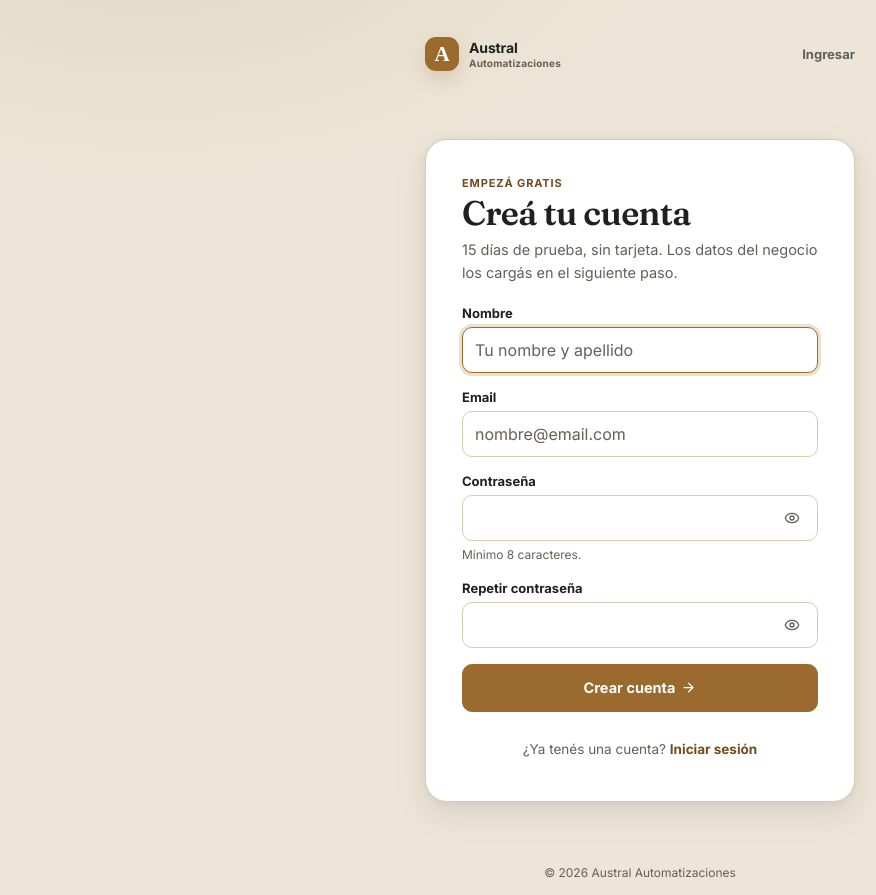
Test: Signup › un email ya registrado no promete un mail que Supabase no envía
Type "Lautaro" into the field labelled "Nombre" at (640, 350), box 462,327 -> 818,373
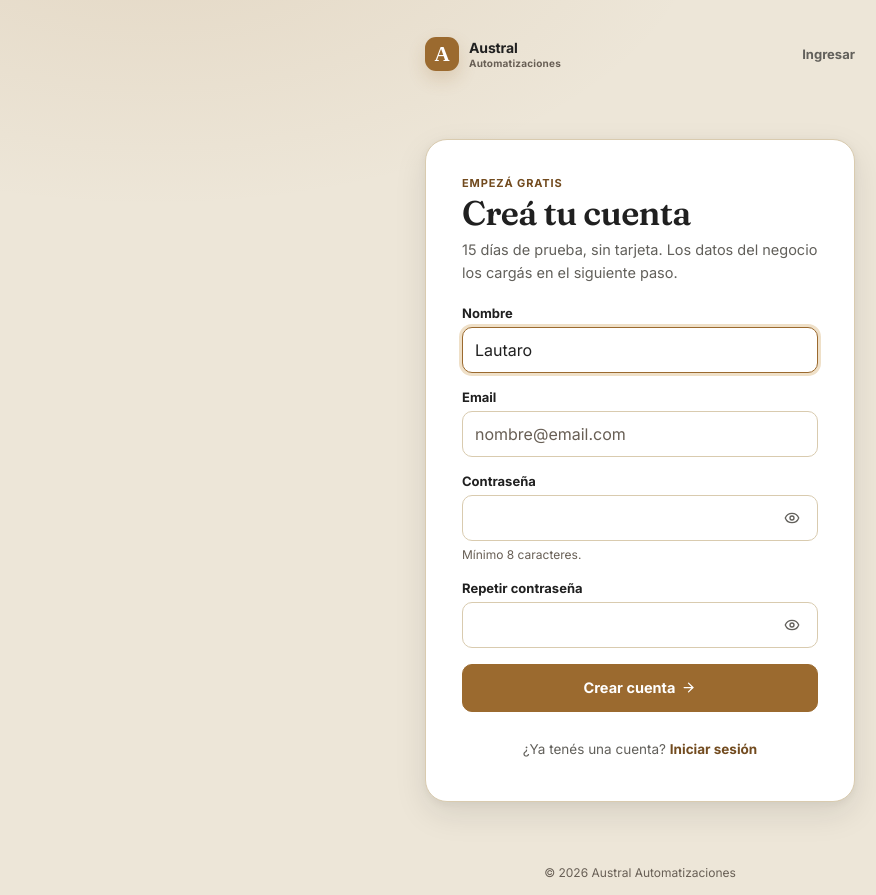
Type "dueno@example.com" into the field labelled "Email" at (640, 434), box 462,411 -> 818,457
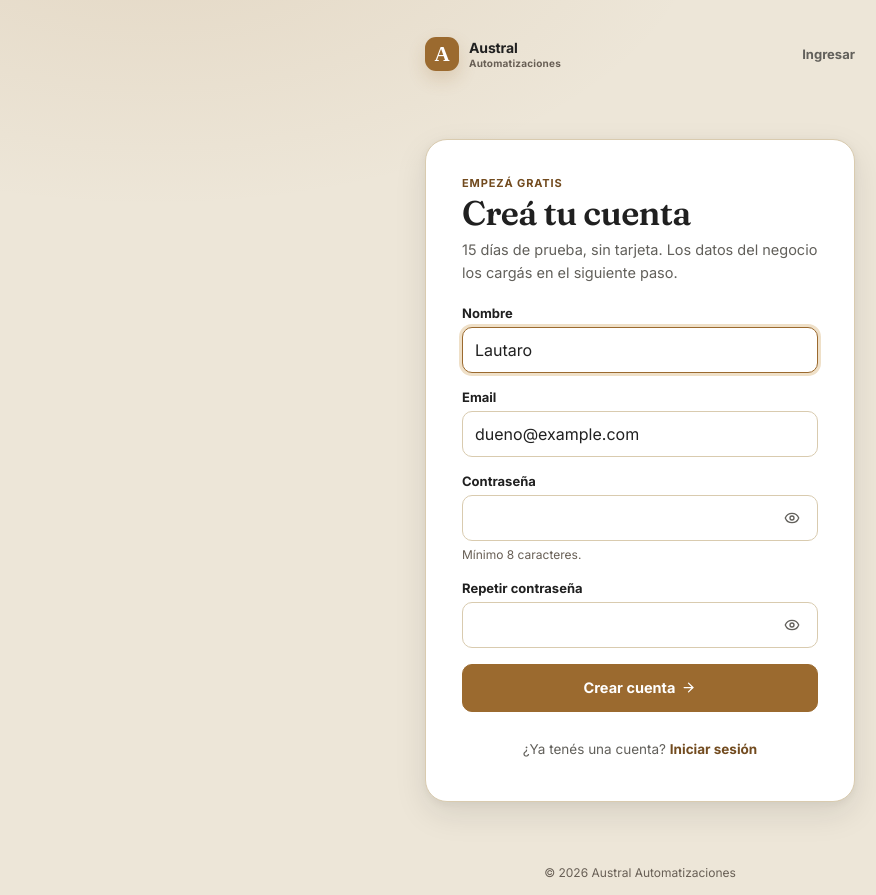
Type "clave-segura-1" into the password field labelled "Contraseña" at (640, 518), box 462,495 -> 818,541
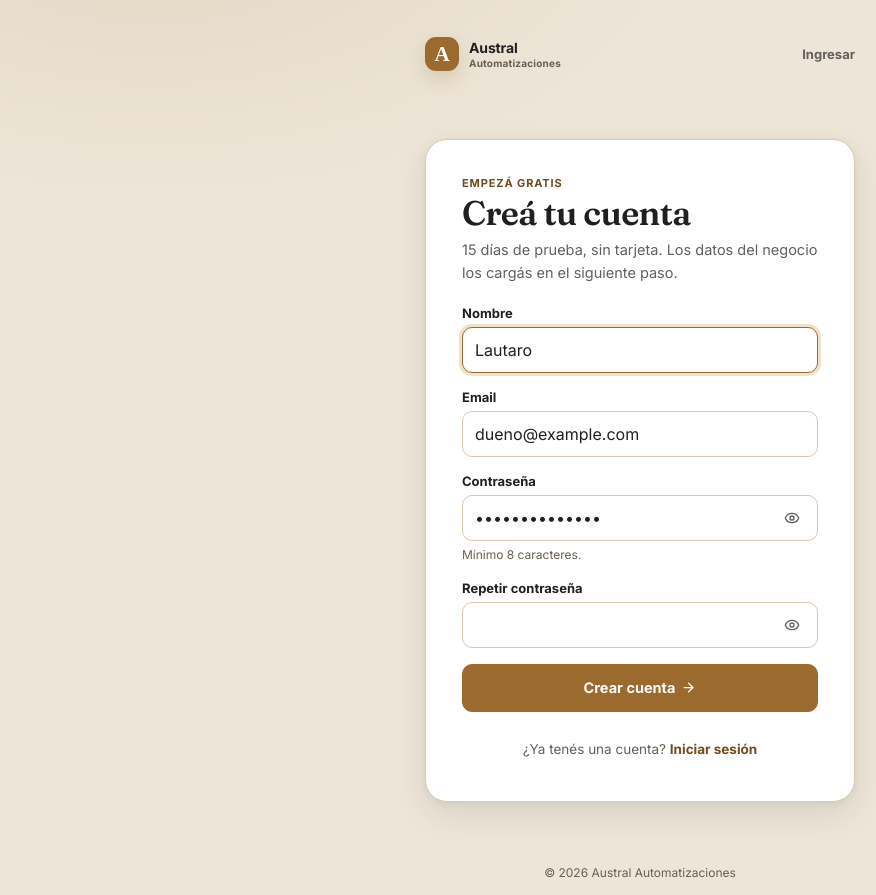
Type "clave-segura-1" into the password field labelled "Repetir contraseña" at (640, 625), box 462,602 -> 818,648
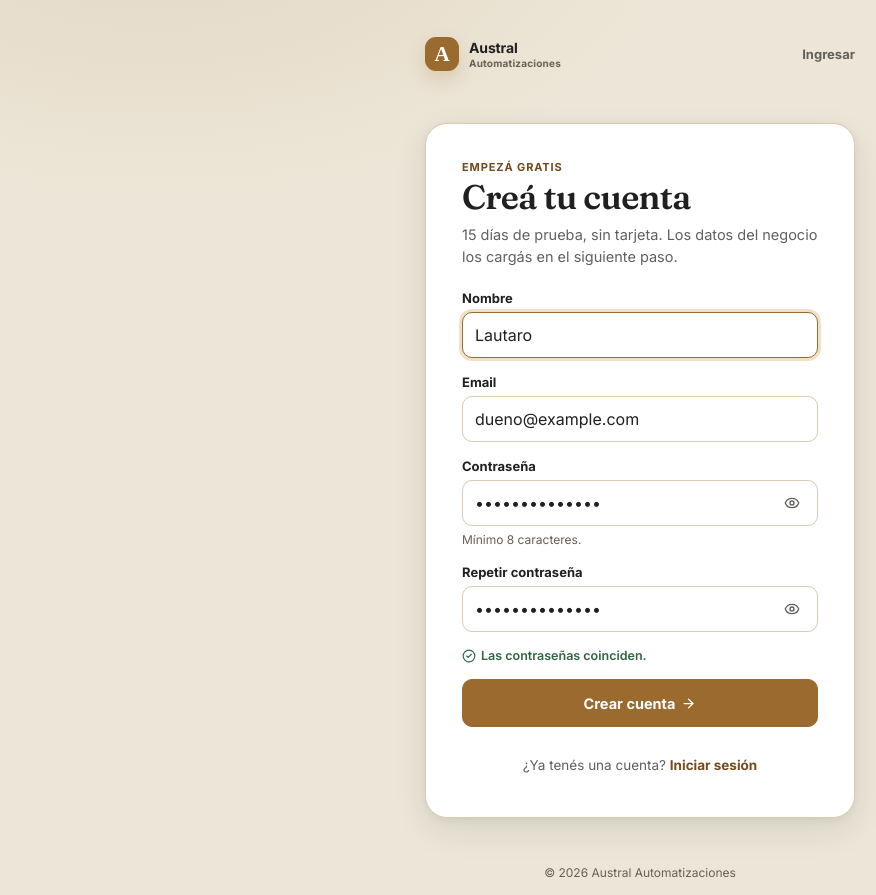
Submit the form, box 462,290 -> 818,727
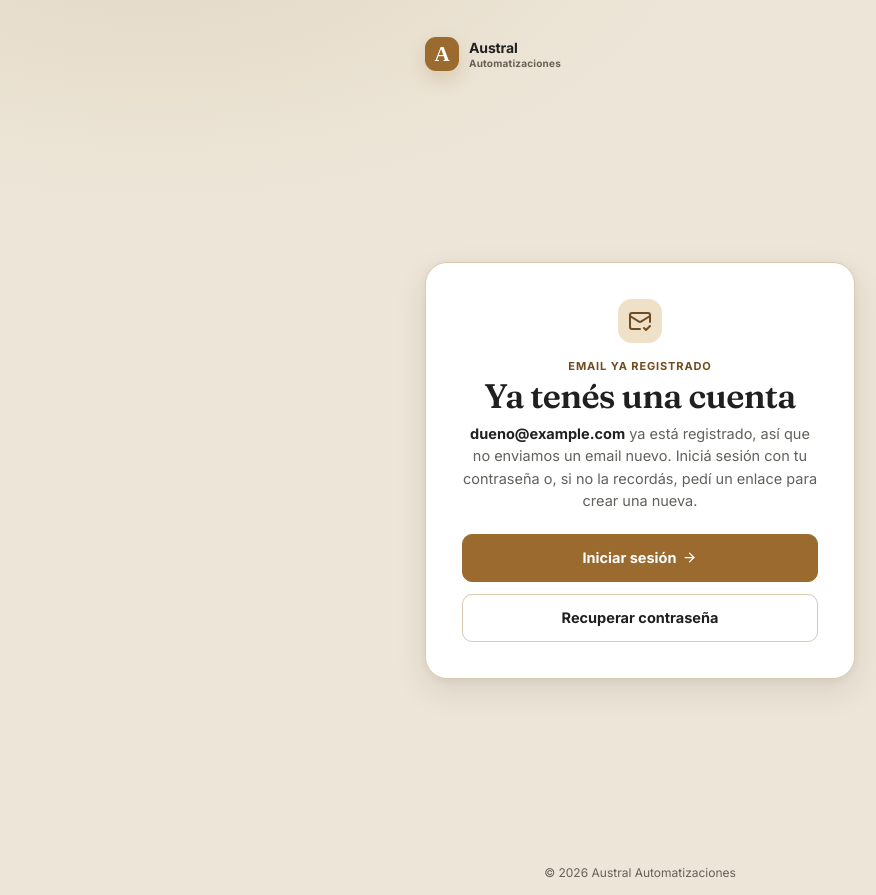
Expected: the heading "Ya tenés una cuenta" is shown, 462,379 -> 818,415
Expected: the field "Revisá tu email" is gone
Expected: the button "Recuperar contraseña" is shown, 462,594 -> 818,642
